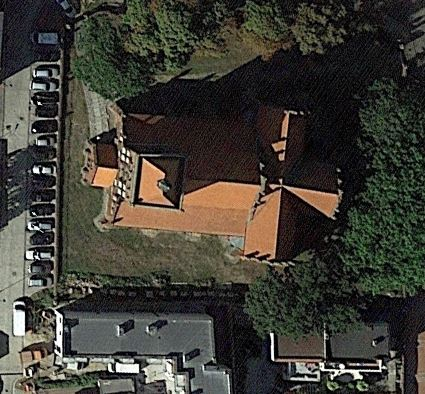block of flats: (51, 305, 233, 394)
church: (75, 98, 348, 270)
